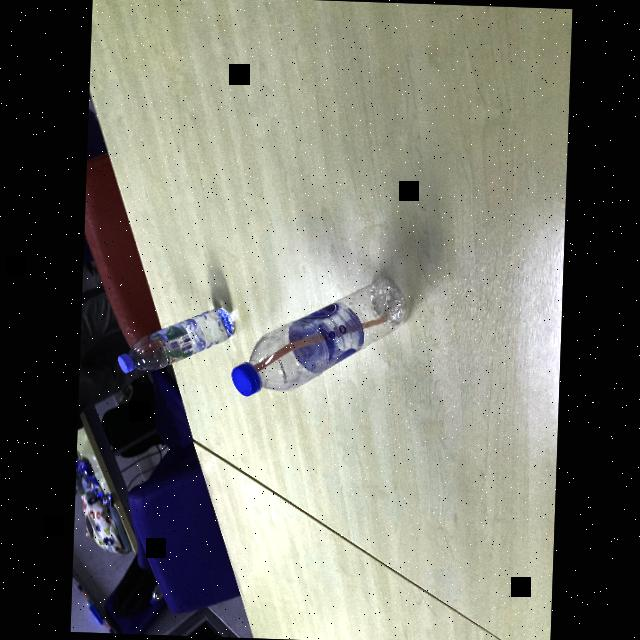plastic_bottle: (227, 274, 410, 402), (115, 301, 236, 377)
plastic_bottle_cap: (230, 362, 260, 401), (116, 353, 135, 372)
